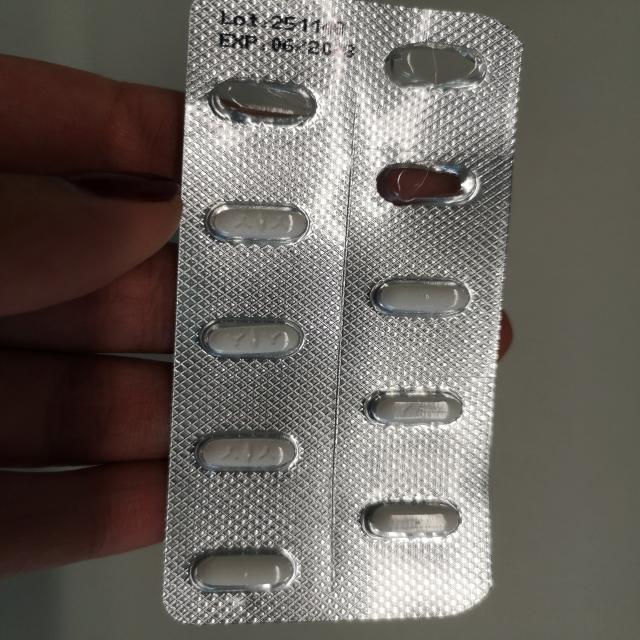Empty: (203, 73, 323, 130), (376, 38, 494, 92), (369, 157, 485, 210)
Pill: (183, 544, 303, 596), (199, 195, 313, 249), (188, 428, 302, 476), (363, 271, 472, 319), (197, 315, 307, 362), (360, 384, 466, 430), (352, 498, 464, 541)
